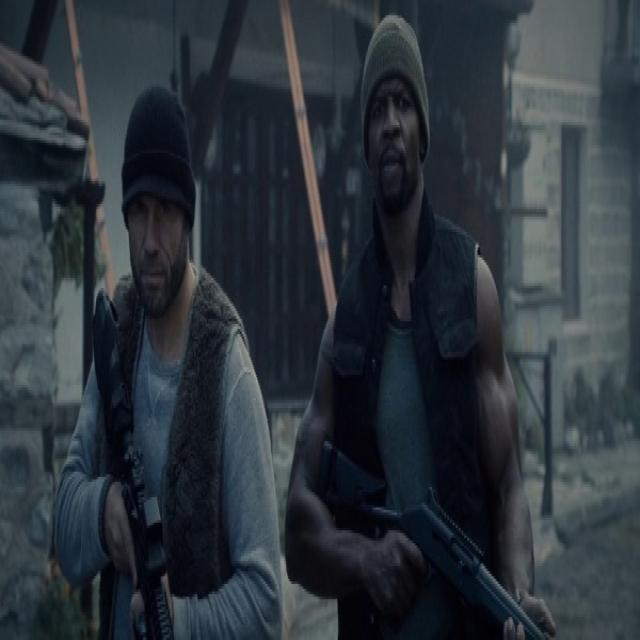rifle: (312, 421, 552, 640), (96, 289, 173, 640)
